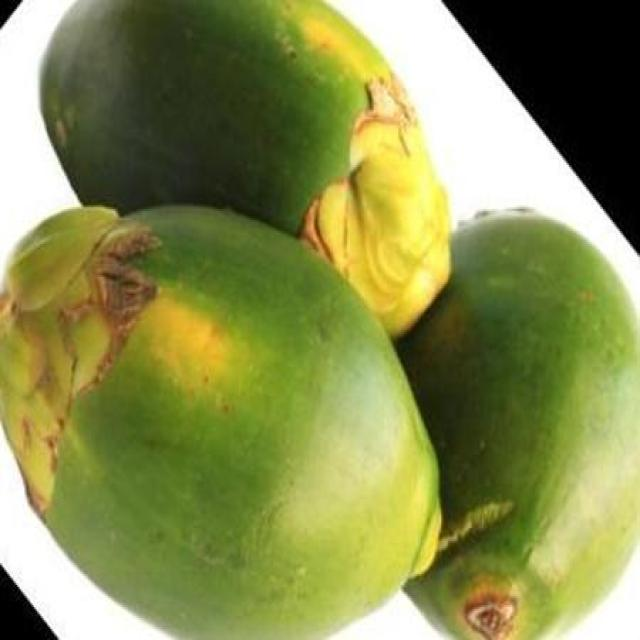good: (0, 204, 442, 638), (37, 0, 441, 310), (393, 213, 639, 638)
